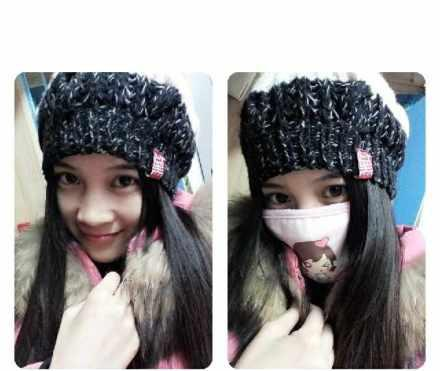NONE: (55, 159, 151, 262)
OK: (255, 177, 362, 284)
